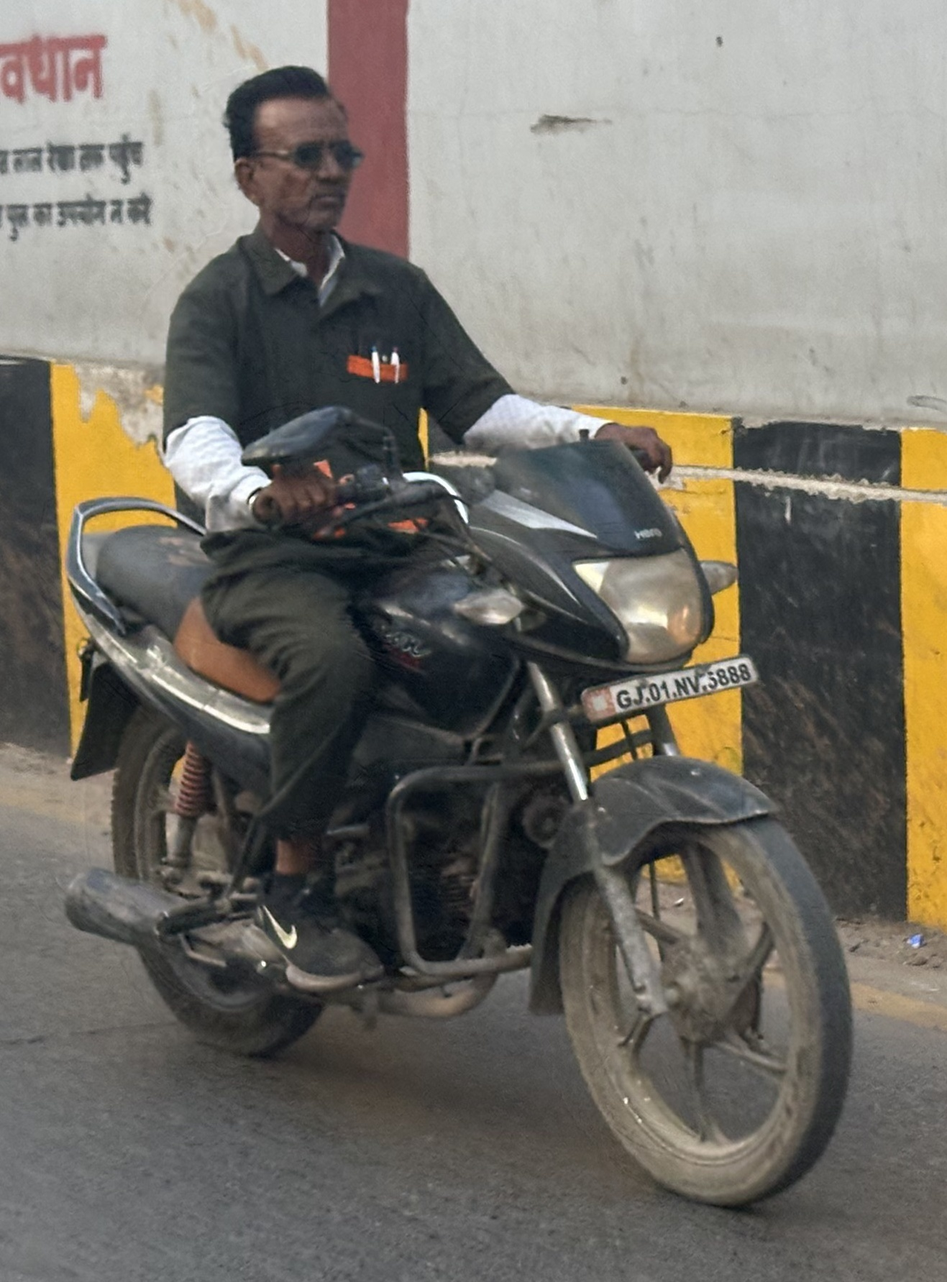BikeWithRider: (53, 60, 863, 1213)
NoHelmet: (216, 61, 372, 238)
